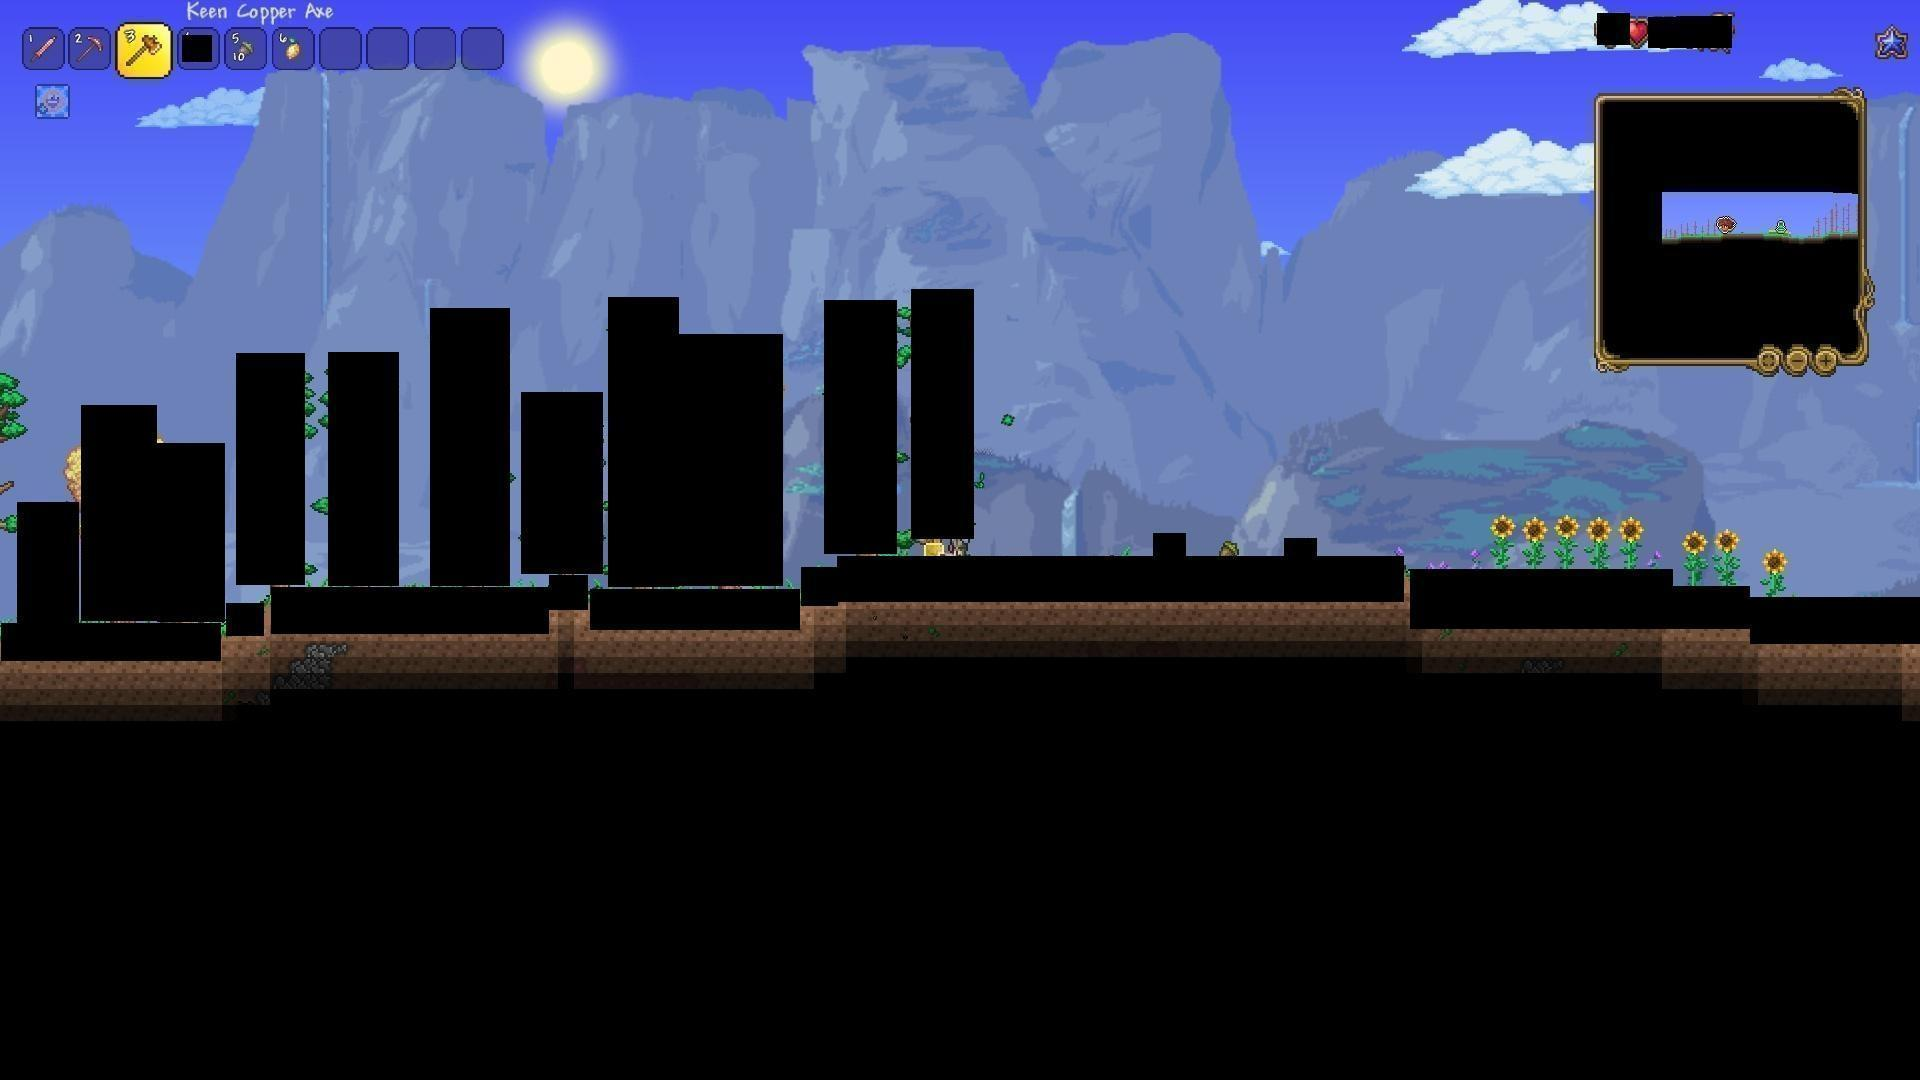heart: (1625, 17, 1651, 47)
